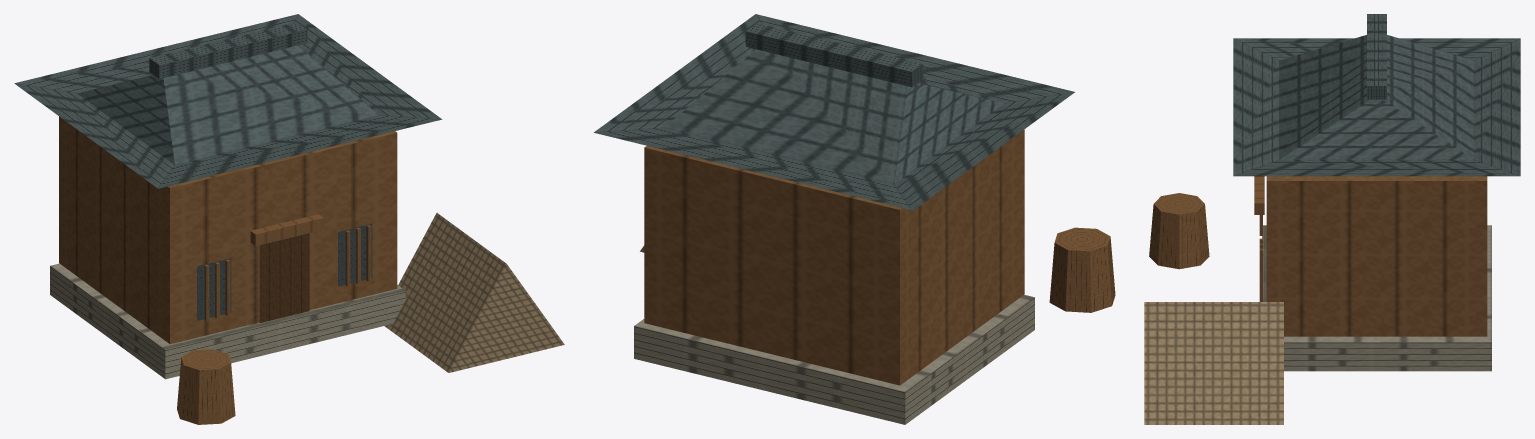
Rendered from domestic-BARRACKS-1-lod1.glb.
3 renders of one model, left to right at view 1: azimuth 30°, elevation 25°; view 2: azimuth 150°, elevation 25°; view 3: azimuth 270°, elevation 25°, orthographic. The views are drawn at different scales.
Size of the model in its own units: 0.727 by 0.509 by 0.647.
1 material, 1 textured.
